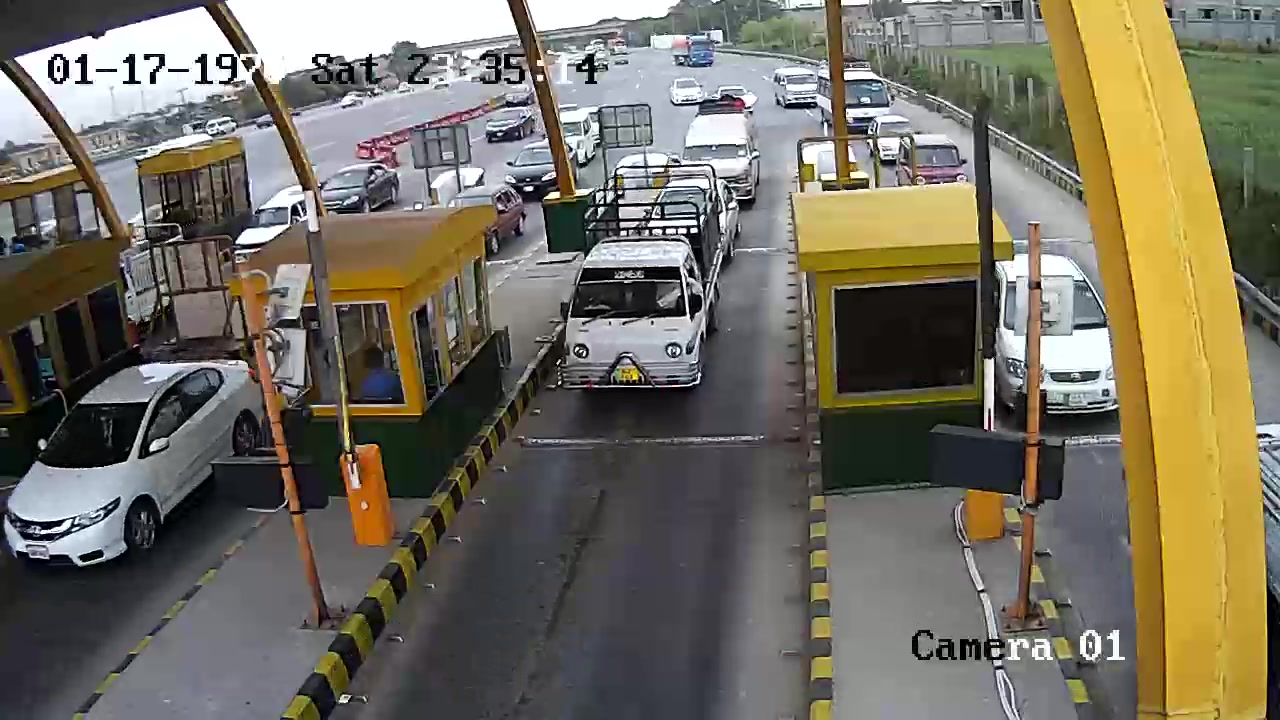F2: (540, 157, 736, 409)
